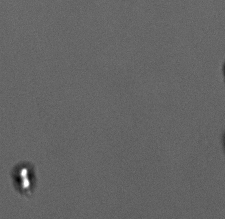Living Cell: (13, 163, 35, 192)
